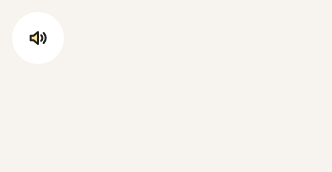
Test: MuteToggle › is a pressed-state button that flips the label and persists
The width and height of the screenshot is (332, 172).
Later steps or results of the test are not shown.
Click the button named "Mute sounds" at (38, 38), box [12,12,64,64]
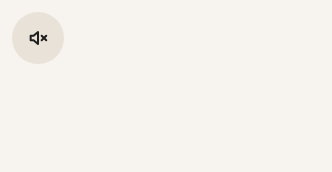
Now the button named "Turn sounds on" is pressed, box [12,12,64,64]
